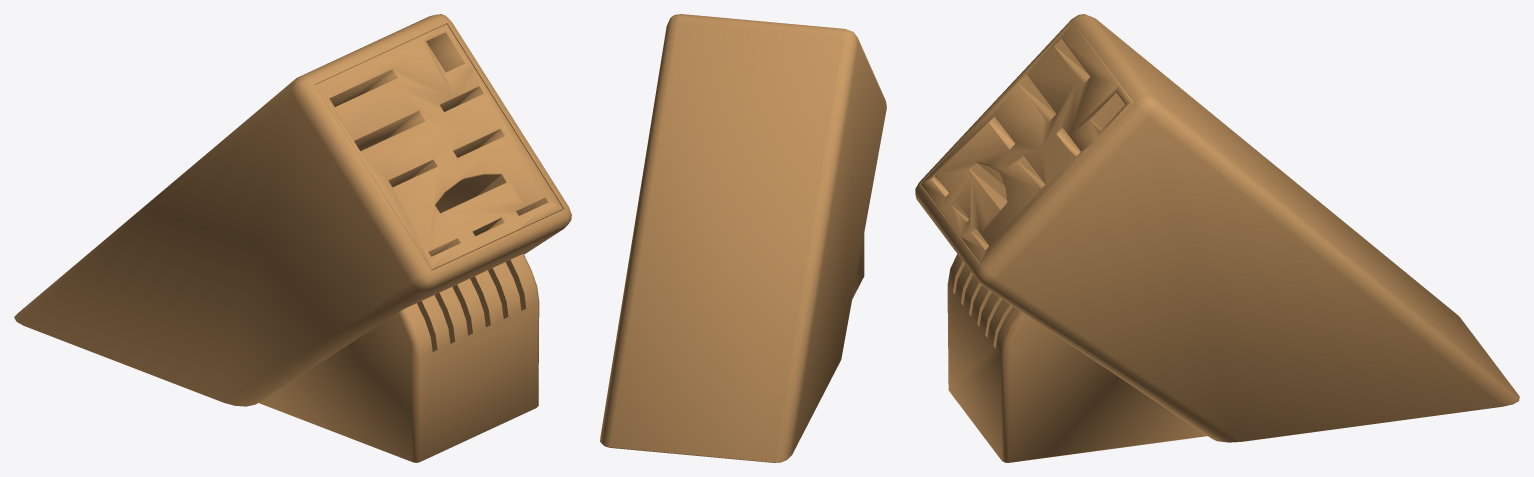
The model's file is knife_house.fbx.
The picture shows the model from 3 angles, left to right: view 1: azimuth 30°, elevation 25°; view 2: azimuth 150°, elevation 25°; view 3: azimuth 270°, elevation 25°; orthographic projection. The views are drawn at different scales.
Visible parts, largest first — view 1: Knife Block.001; view 2: Knife Block.001; view 3: Knife Block.001.
Boxes of the visible parts, x1,y1,x2,y2 form: Knife Block.001: [14, 14, 571, 462]; Knife Block.001: [600, 14, 886, 462]; Knife Block.001: [915, 14, 1519, 462].
Bounding box in the file's own units: 18.13 × 18.3 × 28.5.
